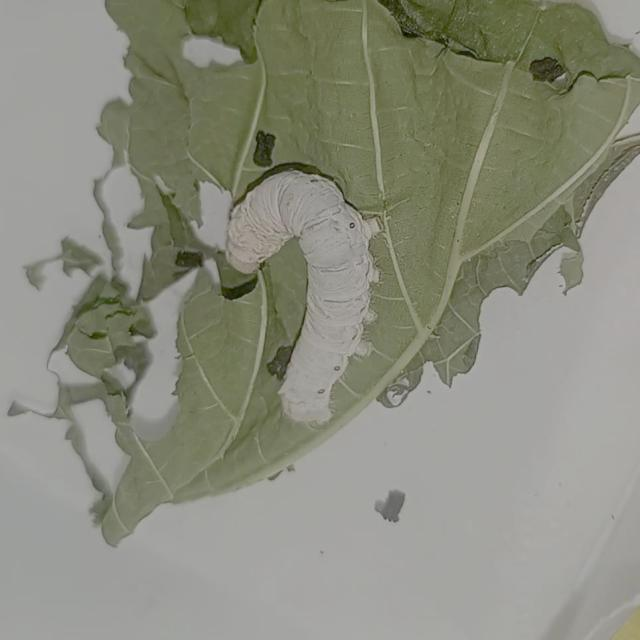Healthy: (200, 129, 400, 448)
